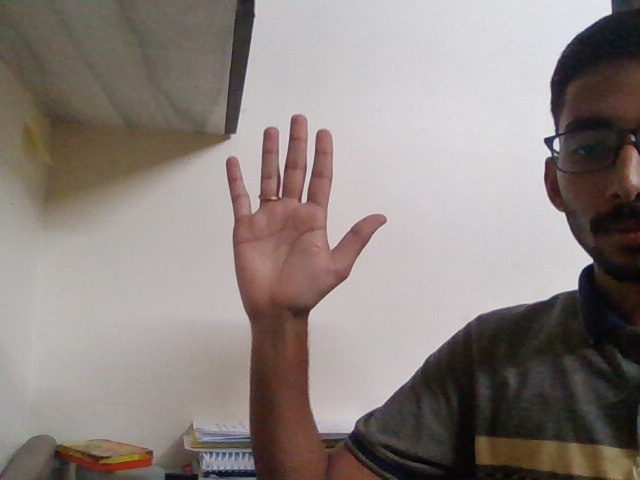Hello: (211, 104, 402, 353)
